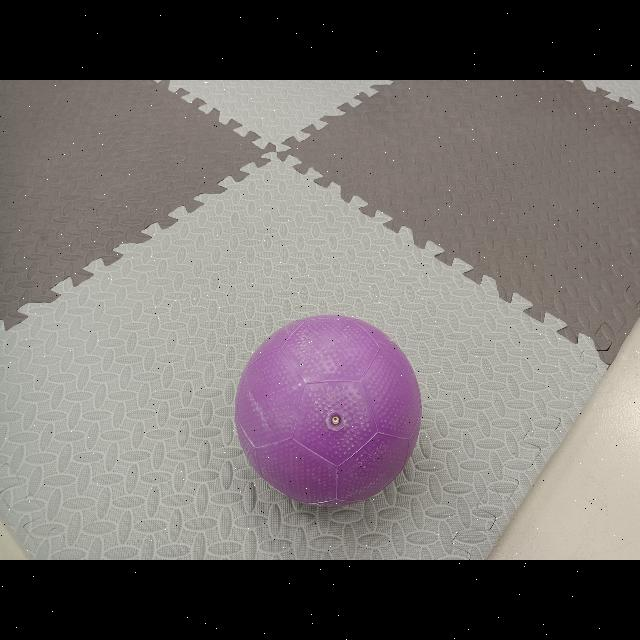P: (238, 306, 432, 508)
